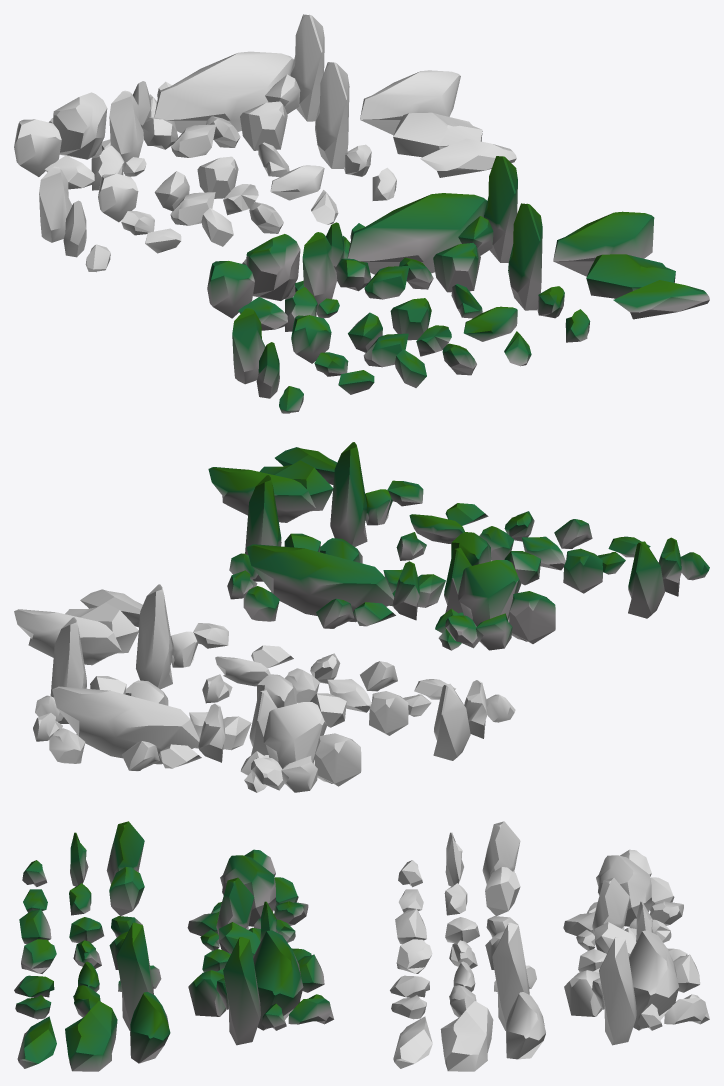
The model's file is OfficeandEnv_Rocks.fbx.
The picture shows the model from 3 angles, top to bottom: view 1: azimuth 30°, elevation 25°; view 2: azimuth 150°, elevation 25°; view 3: azimuth 270°, elevation 25°; orthographic projection. The views are drawn at different scales.
Visible parts, largest first — view 1: Pedras2, Pedras2Musgo, Pedras, PedrasMusgo, PedrasUnidadesMusgo.021, Pedra.017, PedrasUnidadesMusgo.019, Pedra.016, PedrasUnidadesMusgo.010, Pedra.018, PedrasUnidadesMusgo.009, Pedra.021 (+32 smaller); view 2: Pedras2Musgo, Pedras2, Pedras, PedrasMusgo, PedrasUnidadesMusgo.021, Pedra.017, Pedra.016, PedrasUnidadesMusgo.019, Pedra.003, PedrasUnidadesMusgo.001, Pedra.004, PedrasUnidadesMusgo.016 (+30 smaller); view 3: Pedras2, Pedras2Musgo, Pedras, PedrasMusgo, PedrasUnidadesMusgo.010, Pedra.018, PedrasUnidadesMusgo.019, Pedra.016, PedrasUnidadesMusgo.021, Pedra.017, PedrasUnidadesMusgo.001, Pedra.003 (+28 smaller).
Part boxes in pixels (x1,y1,x2,y2): Pedras2: (133,14,324,157); Pedras2Musgo: (326,156,517,299); Pedras: (14,90,146,190); PedrasMusgo: (207,232,339,331); PedrasUnidadesMusgo.021: (553,211,654,276); Pedra.017: (360,70,460,135); PedrasUnidadesMusgo.019: (508,203,542,310); Pedra.016: (315,62,349,168); PedrasUnidadesMusgo.010: (586,254,675,298); Pedra.018: (393,112,482,157); PedrasUnidadesMusgo.009: (613,280,709,319); Pedra.021: (420,138,516,177); Pedras2Musgo: (227,475,445,628); Pedras2: (33,617,251,771); Pedras: (240,690,361,792); PedrasMusgo: (435,548,555,650); PedrasUnidadesMusgo.021: (208,467,315,522); Pedra.017: (14,609,121,665); Pedra.016: (136,584,172,689); PedrasUnidadesMusgo.019: (330,442,367,546); Pedra.003: (433,683,470,760); PedrasUnidadesMusgo.001: (628,541,664,618); Pedra.004: (369,691,408,735); PedrasUnidadesMusgo.016: (563,548,602,593); Pedras2: (564,901,709,1045); Pedras2Musgo: (188,901,333,1045); Pedras: (563,849,683,950); PedrasMusgo: (187,849,308,950); PedrasUnidadesMusgo.010: (65,1001,117,1071); Pedra.018: (440,1001,493,1071); PedrasUnidadesMusgo.019: (116,922,153,1030); Pedra.016: (492,922,529,1030); PedrasUnidadesMusgo.021: (130,992,170,1063); Pedra.017: (506,992,545,1059); PedrasUnidadesMusgo.001: (106,821,144,884); Pedra.003: (482,821,520,884).
Size of the model in its own units: 340 by 82.96 by 484.
